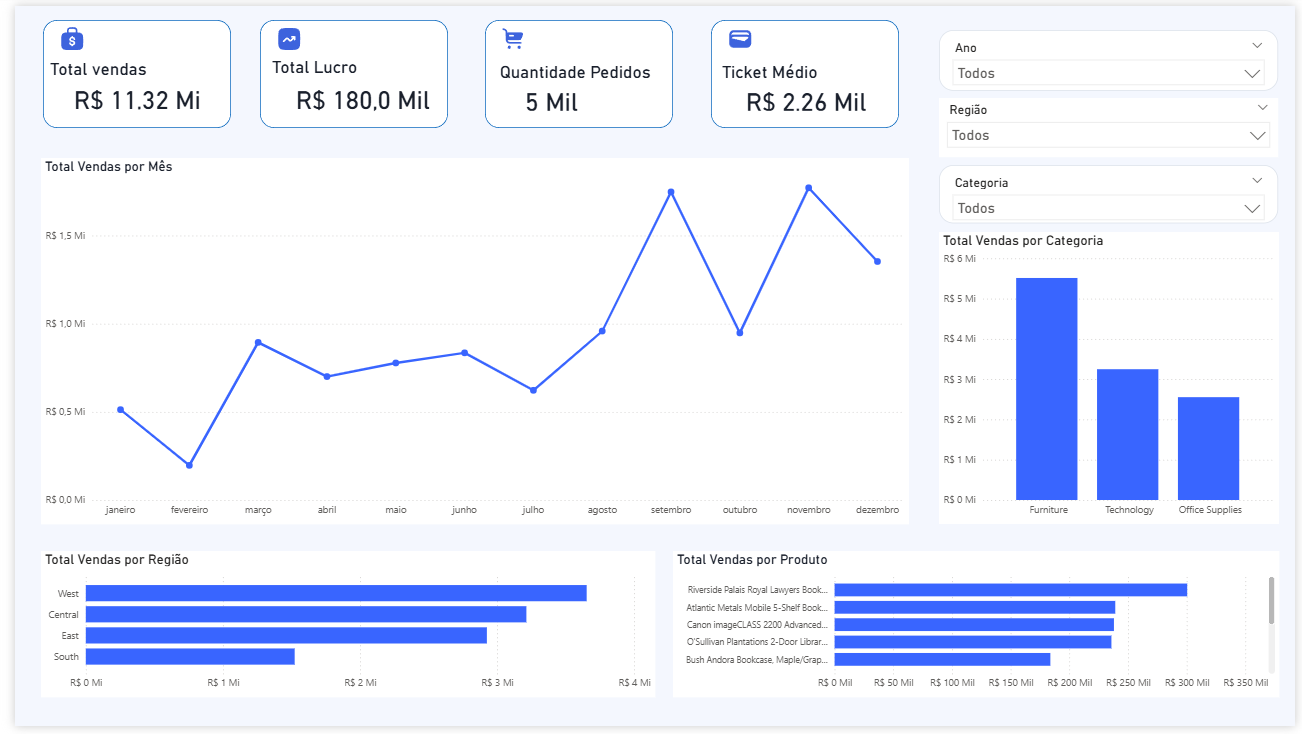

The dashboard page shown, as its layout file describes it:
{"tool":"powerbi","page":{"name":"Visão Geral","canvas":[1600,900],"ordinal":0},"visuals":[{"type":"group","id":"g1","title":"Grupo 2","box":[34.4,17.5,263.3,135],"z":0},{"type":"shape","box":[34.4,17.5,235,135],"z":0,"group":"g1"},{"type":"shape","box":[306.2,17.5,235,135],"z":0,"group":"g2"},{"type":"shape","box":[588,17.5,235,135],"z":0,"group":"g3"},{"type":"shape","box":[870,17.5,235,135],"z":0,"group":"g4"},{"type":"slicer","fields":{"Values":["Sample - Superstore.Order Date.Variation.Hierarquia de datas.Ano"]},"box":[1154.4,30,424.4,75.6],"z":1000},{"type":"cardVisual","title":"Total Lucro","fields":{"Data":["Sample - Superstore.Total Lucro"]},"box":[315.9,63.1,238.8,86.2],"z":1000,"group":"g2"},{"type":"cardVisual","title":"Total vendas","fields":{"Data":["Sample - Superstore.Total Vendas"]},"box":[37.7,65.6,260,80],"z":1000,"group":"g1"},{"type":"cardVisual","title":"Quantidade Pedidos","fields":{"Data":["Sample - Superstore.Quantidade Pedidos"]},"box":[601.8,69.4,238.8,78.8],"z":1000,"group":"g3"},{"type":"cardVisual","title":"Ticket Médio","fields":{"Data":["Sample - Superstore.Ticket Médio"]},"box":[878.8,69.4,238.8,78.8],"z":1000,"group":"g4"},{"type":"image","box":[55,18.7,33.3,45.6],"z":2000,"group":"g1"},{"type":"image","box":[326.8,18.7,33.3,45.6],"z":2000,"group":"g2"},{"type":"image","box":[608.6,18.7,33.3,45.6],"z":2000,"group":"g3"},{"type":"image","box":[890.6,18.7,33.3,45.6],"z":2000,"group":"g4"},{"type":"slicer","fields":{"Values":["Sample - Superstore.Region"]},"box":[1154.4,115.6,424.4,74.4],"z":2000},{"type":"slicer","fields":{"Values":["Sample - Superstore.Category"]},"box":[1154.4,198.9,424.4,73.3],"z":3000},{"type":"group","id":"g2","title":"Grupo 2","box":[306.2,17.5,248.4,135],"z":4000},{"type":"group","id":"g3","title":"Grupo 2","box":[588,17.5,252.5,135],"z":5000},{"type":"group","id":"g4","title":"Grupo 2","box":[870,17.5,247.5,135],"z":6000},{"type":"lineChart","fields":{"Y":["Sample - Superstore.Total Vendas"],"Category":["Sample - Superstore.Order Date.Variation.Hierarquia de datas.Mês"]},"box":[32.5,190,1085,457.5],"z":7000},{"type":"clusteredColumnChart","title":"Total Vendas por Categoria","fields":{"Category":["Sample - Superstore.Category"],"Y":["Sample - Superstore.Total Vendas"]},"box":[1155,282.5,425,365],"z":8000},{"type":"clusteredBarChart","title":"Total Vendas por Região","fields":{"Y":["Sample - Superstore.Total Vendas"],"Category":["Sample - Superstore.Region"]},"box":[32.5,681.2,767.5,182.5],"z":9000},{"type":"clusteredBarChart","title":"Total Vendas por Produto","fields":{"Category":["Sample - Superstore.Product Name"],"Y":["Sample - Superstore.Total Vendas"]},"box":[822.5,681.2,757.5,182.5],"z":10000}]}

Visuals, with their boxes in screenshot pixels (x1, y1, x2, y2), scaled from the page's 1600x900 canvas onto the 1302x734 screenshot:
"Grupo 2" group: region(28, 14, 242, 124)
shape: region(28, 14, 219, 124)
shape: region(249, 14, 440, 124)
shape: region(478, 14, 670, 124)
shape: region(708, 14, 899, 124)
slicer - Sample - Superstore.Order Date.Variation.Hierarquia de datas.Ano: region(939, 24, 1285, 86)
"Total Lucro" cardVisual: region(257, 51, 451, 122)
"Total vendas" cardVisual: region(31, 54, 242, 119)
"Quantidade Pedidos" cardVisual: region(490, 57, 684, 121)
"Ticket Médio" cardVisual: region(715, 57, 909, 121)
image: region(45, 15, 72, 52)
image: region(266, 15, 293, 52)
image: region(495, 15, 522, 52)
image: region(725, 15, 752, 52)
slicer - Sample - Superstore.Region: region(939, 94, 1285, 155)
slicer - Sample - Superstore.Category: region(939, 162, 1285, 222)
"Grupo 2" group: region(249, 14, 451, 124)
"Grupo 2" group: region(478, 14, 684, 124)
"Grupo 2" group: region(708, 14, 909, 124)
lineChart - Sample - Superstore.Total Vendas x Sample - Superstore.Order Date.Variation.Hierarquia de datas.Mês: region(26, 155, 909, 528)
"Total Vendas por Categoria" clusteredColumnChart: region(940, 230, 1286, 528)
"Total Vendas por Região" clusteredBarChart: region(26, 556, 651, 704)
"Total Vendas por Produto" clusteredBarChart: region(669, 556, 1286, 704)
